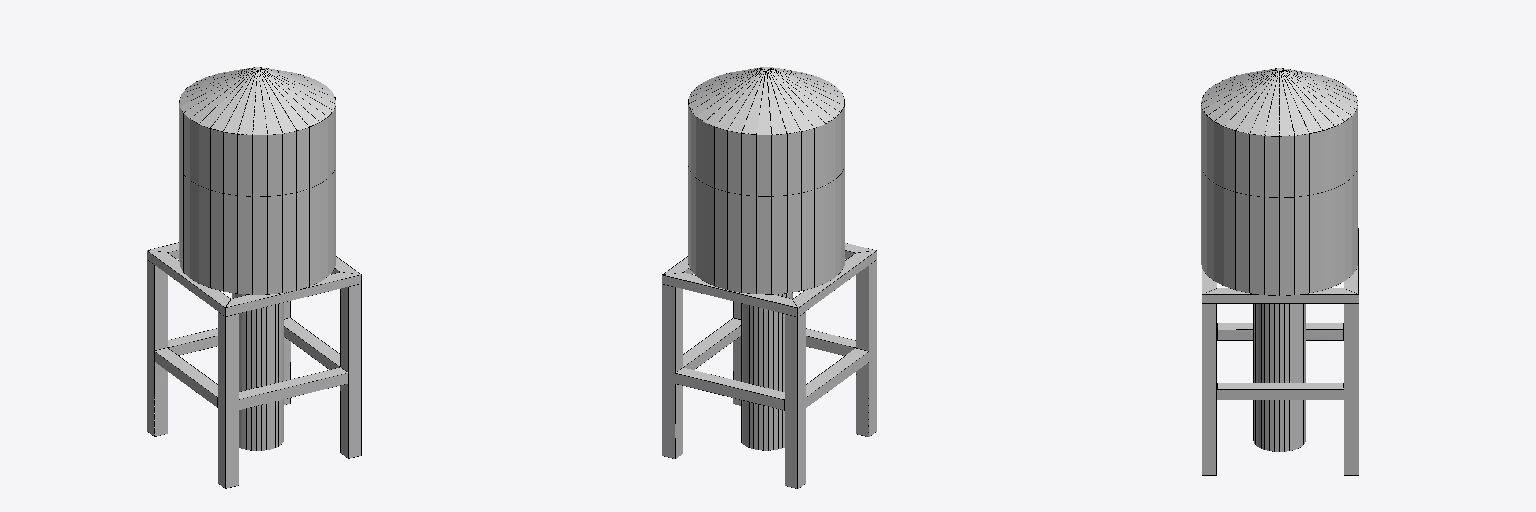
3 views of the same model, side by side, from view 1: azimuth 30°, elevation 25°; view 2: azimuth 150°, elevation 25°; view 3: azimuth 270°, elevation 25° (orthographic).
Visible parts, largest first — view 1: water_tower_Cylinder.001; view 2: water_tower_Cylinder.001; view 3: water_tower_Cylinder.001.
Part boxes in pixels (bbox=[...]): water_tower_Cylinder.001: bbox=[147, 67, 361, 488]; water_tower_Cylinder.001: bbox=[662, 67, 876, 488]; water_tower_Cylinder.001: bbox=[1201, 68, 1358, 475].
Size of the model in its own units: 4.09 by 10.51 by 4.02.
Materials: 1 (1 with a texture image).